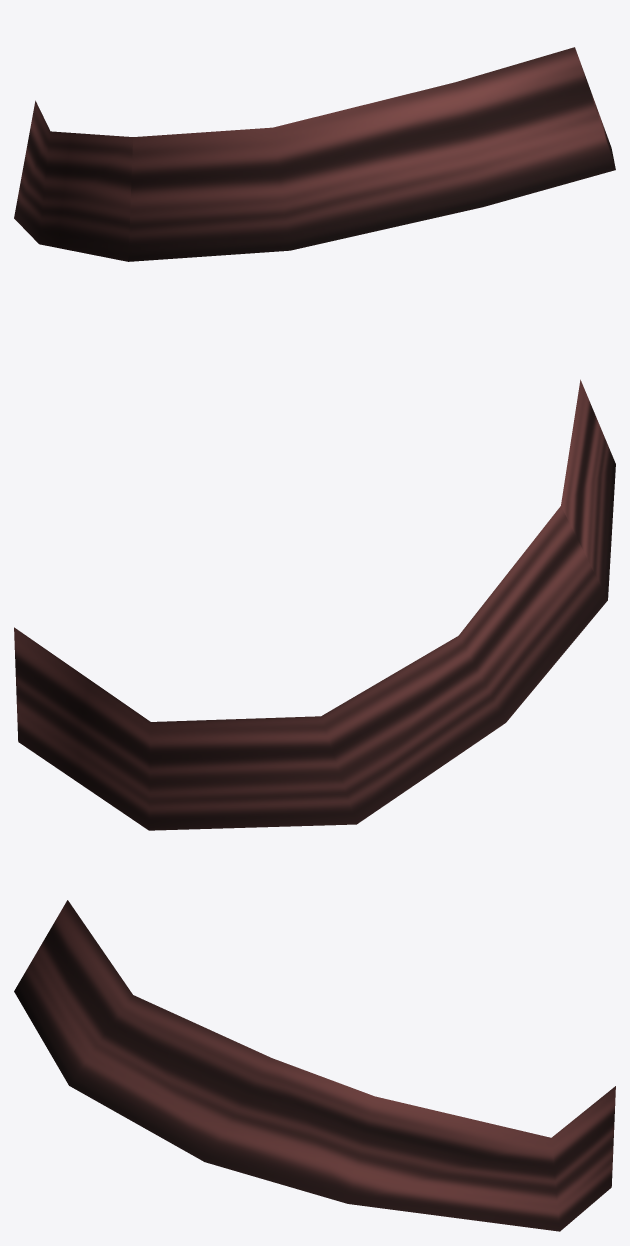
Rendered from bandana_dred.glb.
3 renders of one model, top to bottom at view 1: azimuth 30°, elevation 25°; view 2: azimuth 150°, elevation 25°; view 3: azimuth 270°, elevation 25°, orthographic. The views are drawn at different scales.
Visible parts, largest first — view 1: Bandana; view 2: Bandana; view 3: Bandana.
Boxes of the visible parts, x1=… form: Bandana: x1=14, y1=47, x2=615, y2=261; Bandana: x1=14, y1=379, x2=615, y2=830; Bandana: x1=14, y1=900, x2=615, y2=1231.
Bounding box in the file's own units: 0.1856 × 0.1165 × 0.2224.
1 material, 1 textured.
